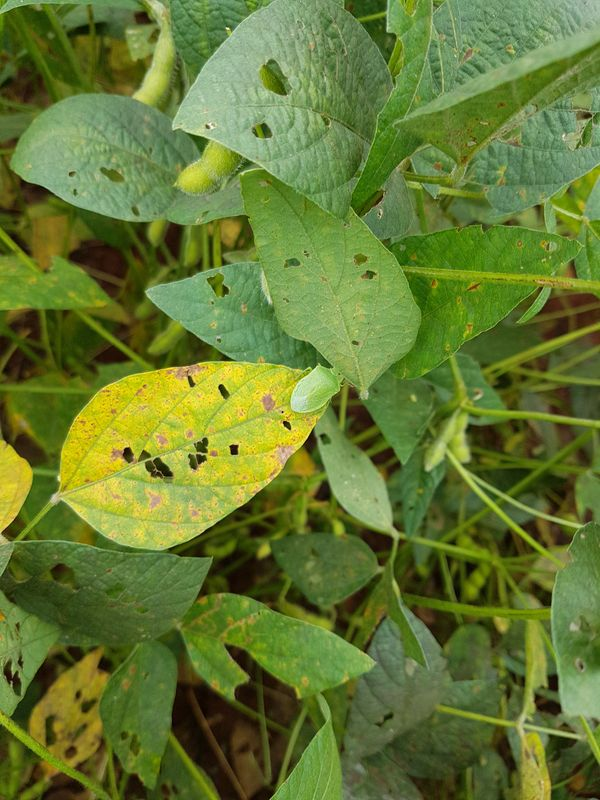Nezara_viridula_adulto: (280, 356, 352, 422)
